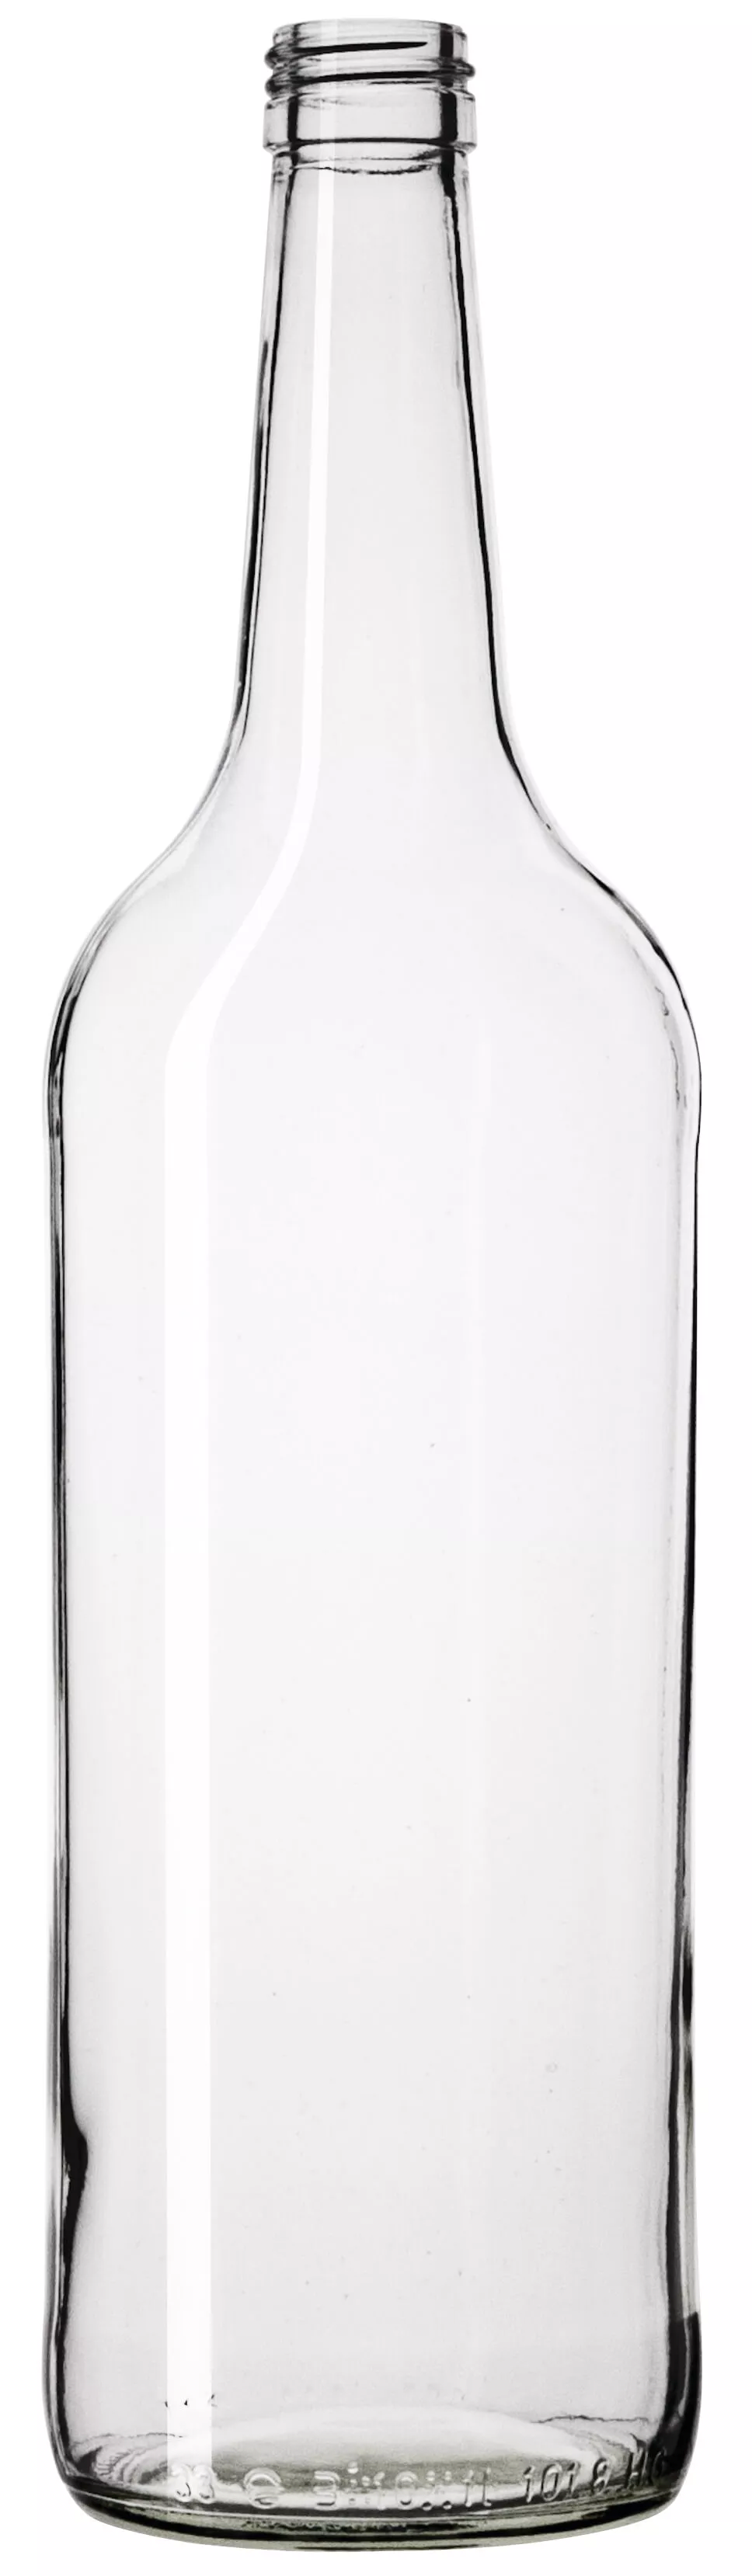glass_bottle: (20, 11, 737, 2564)
